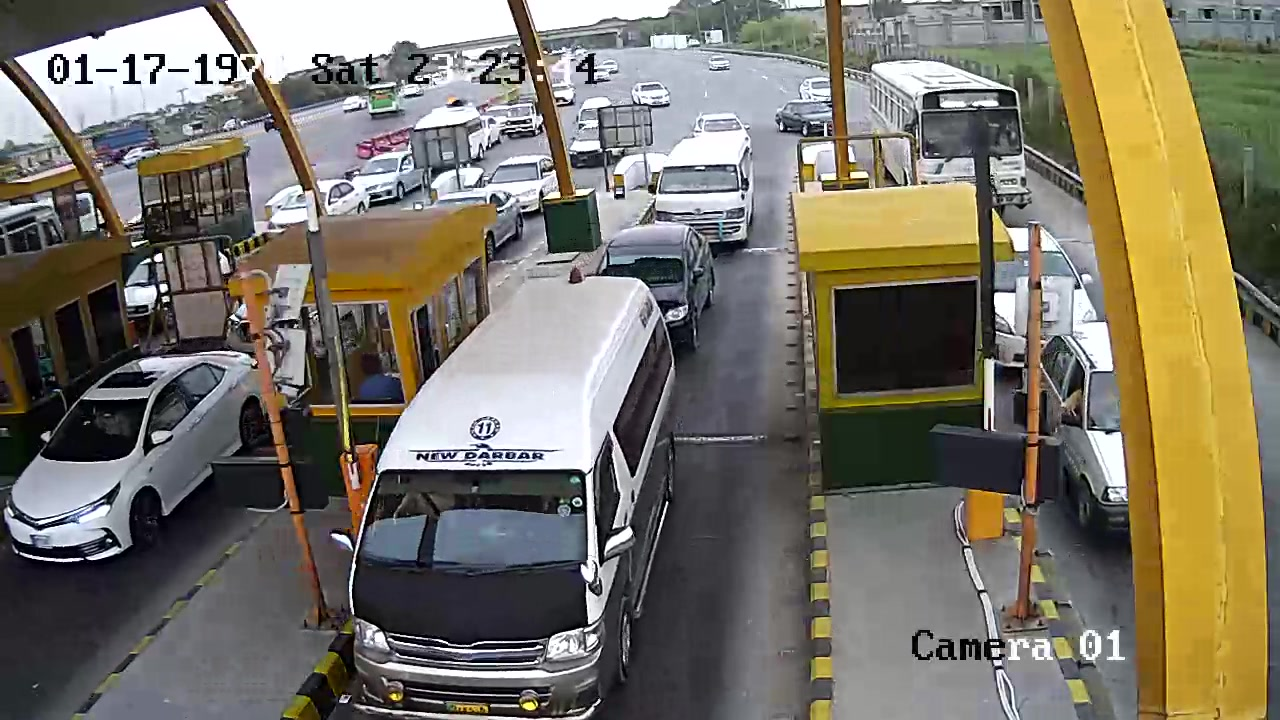F3: (346, 273, 686, 717)
